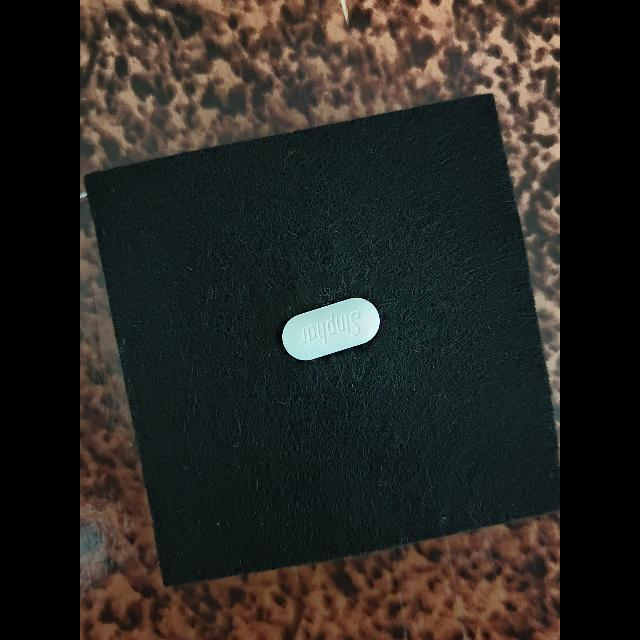Intact Pill: (282, 297, 380, 360)
